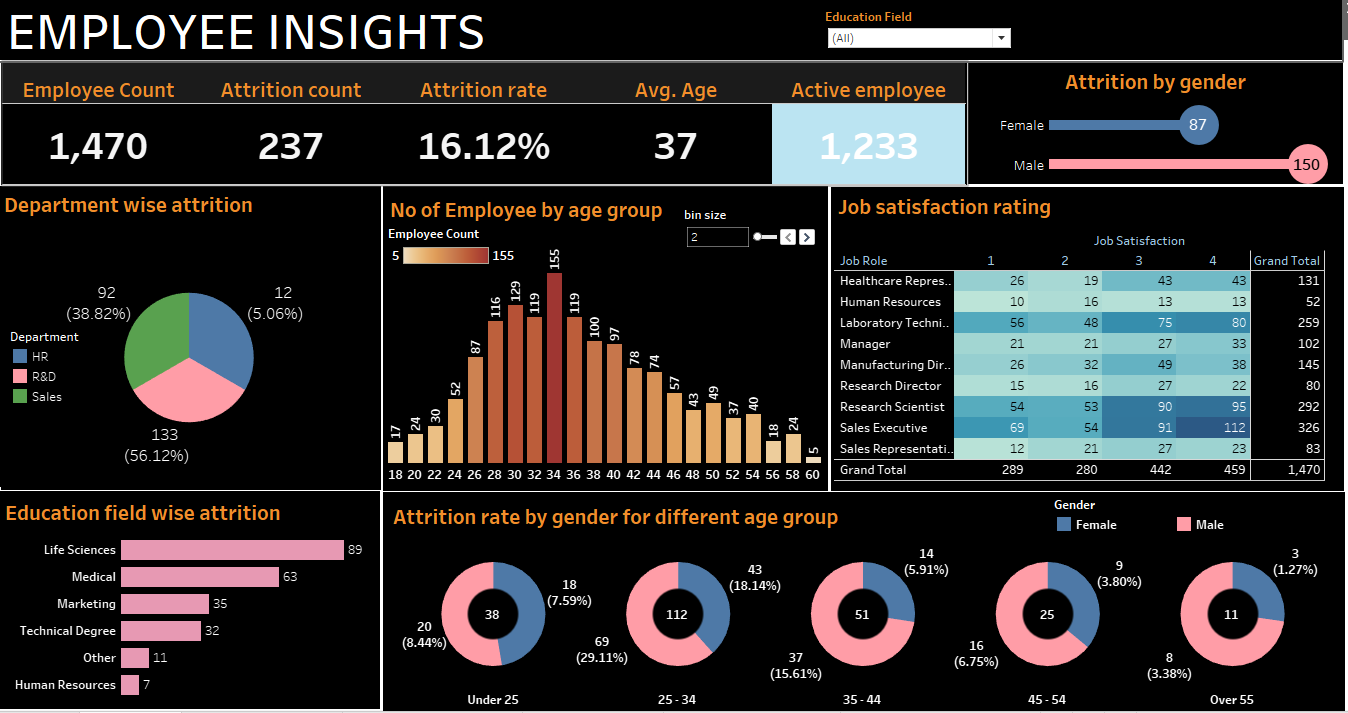

What the dashboard file says about the page in this screenshot:
{"tool":"tableau","page":{"name":"Dashboard 1","canvas":[1000,1000],"units":"permille","ordinal":0},"visuals":[{"type":"image","param":"Image/Presentation1.png","box":[861.3,19.8,106.3,83.3]},{"type":"text","box":[1.4,21.2,785.9,79.1]},{"type":"filter","title":"Department wise attrition","param":"[federated.0hezxho1ohfmn4164zi6v1731aom].[none:Education Field:nk]","box":[593.7,31.1,135.9,57.9]},{"type":"worksheet","title":"KPI ","mark":"Automatic","box":[0.7,104.5,695.8,170.9]},{"type":"worksheet","title":"Attrition by gender","mark":"Automatic","rows":["Gender"],"cols":["Calculation_229120683458887680","Calculation_229120683458887680"],"box":[697.2,104.5,269.7,169.5]},{"type":"worksheet","title":"Department wise attrition","mark":"Pie","box":[0,276.8,271.8,415.2]},{"type":"image","param":"Image/Presentation1.png","box":[0.7,276.8,273.2,419.5]},{"type":"image","param":"Image/Presentation1.png","box":[276.1,276.8,320.4,420.9]},{"type":"image","param":"Image/Presentation1.png","box":[598.6,278.2,369,419.5]},{"type":"worksheet","title":"Job satisfaction rating","mark":"Square","rows":["Job Role"],"cols":["Job Satisfaction"],"box":[600.7,279.7,364.1,416.7]},{"type":"worksheet","title":"No of Employee by age group","mark":"Automatic","rows":["Employee Count"],"cols":["Age (bin)"],"box":[278.2,282.5,314.8,405.4]},{"type":"parameter","param":"[Parameters].[Parameter 1]","box":[492.2,303.7,96.5,72]},{"type":"legend","title":"No of Employee by age group","param":"[federated.0hezxho1ohfmn4164zi6v1731aom].[sum:Employee Count:qk]","box":[279.6,330.5,94.4,60.7]},{"type":"legend","title":"Department wise attrition","param":"[federated.0hezxho1ohfmn4164zi6v1731aom].[none:Department:nk]","box":[7,471.8,98.6,110.2]},{"type":"worksheet","title":"Education field wise attrition","mark":"Automatic","rows":["Education Field"],"cols":["Calculation_229120683458887680"],"box":[0.7,702,271.8,291]},{"type":"legend","title":"Attrition rate by gender for different age group","param":"[federated.0hezxho1ohfmn4164zi6v1731aom].[none:Gender:nk]","box":[759.1,704.8,177.5,63.6]},{"type":"worksheet","title":"Attrition rate by gender for different age group","mark":"Pie","rows":["Calculation_229120683623415814","Calculation_229120683623415814"],"cols":["CF_age band"],"box":[280.3,707.6,682.4,291]}]}

Visuals, with their boxes on the dashboard's canvas, which has no fixed pixel size, in thousandths of its width and height (x1, y1, x2, y2). These are canvas units, not pixel positions in the 1348x713 screenshot, which may show the page scaled, cropped or inside an application window:
image: <bbox>861, 20, 968, 103</bbox>
text: <bbox>1, 21, 787, 100</bbox>
"Department wise attrition" filter: <bbox>594, 31, 730, 89</bbox>
"KPI " worksheet: <bbox>1, 104, 696, 275</bbox>
"Attrition by gender" worksheet: <bbox>697, 104, 967, 274</bbox>
"Department wise attrition" worksheet (Pie marks): <bbox>0, 277, 272, 692</bbox>
image: <bbox>1, 277, 274, 696</bbox>
image: <bbox>276, 277, 596, 698</bbox>
image: <bbox>599, 278, 968, 698</bbox>
"Job satisfaction rating" worksheet (Square marks): <bbox>601, 280, 965, 696</bbox>
"No of Employee by age group" worksheet: <bbox>278, 282, 593, 688</bbox>
parameter: <bbox>492, 304, 589, 376</bbox>
"No of Employee by age group" legend: <bbox>280, 330, 374, 391</bbox>
"Department wise attrition" legend: <bbox>7, 472, 106, 582</bbox>
"Education field wise attrition" worksheet: <bbox>1, 702, 272, 993</bbox>
"Attrition rate by gender for different age group" legend: <bbox>759, 705, 937, 768</bbox>
"Attrition rate by gender for different age group" worksheet (Pie marks): <bbox>280, 708, 963, 999</bbox>
